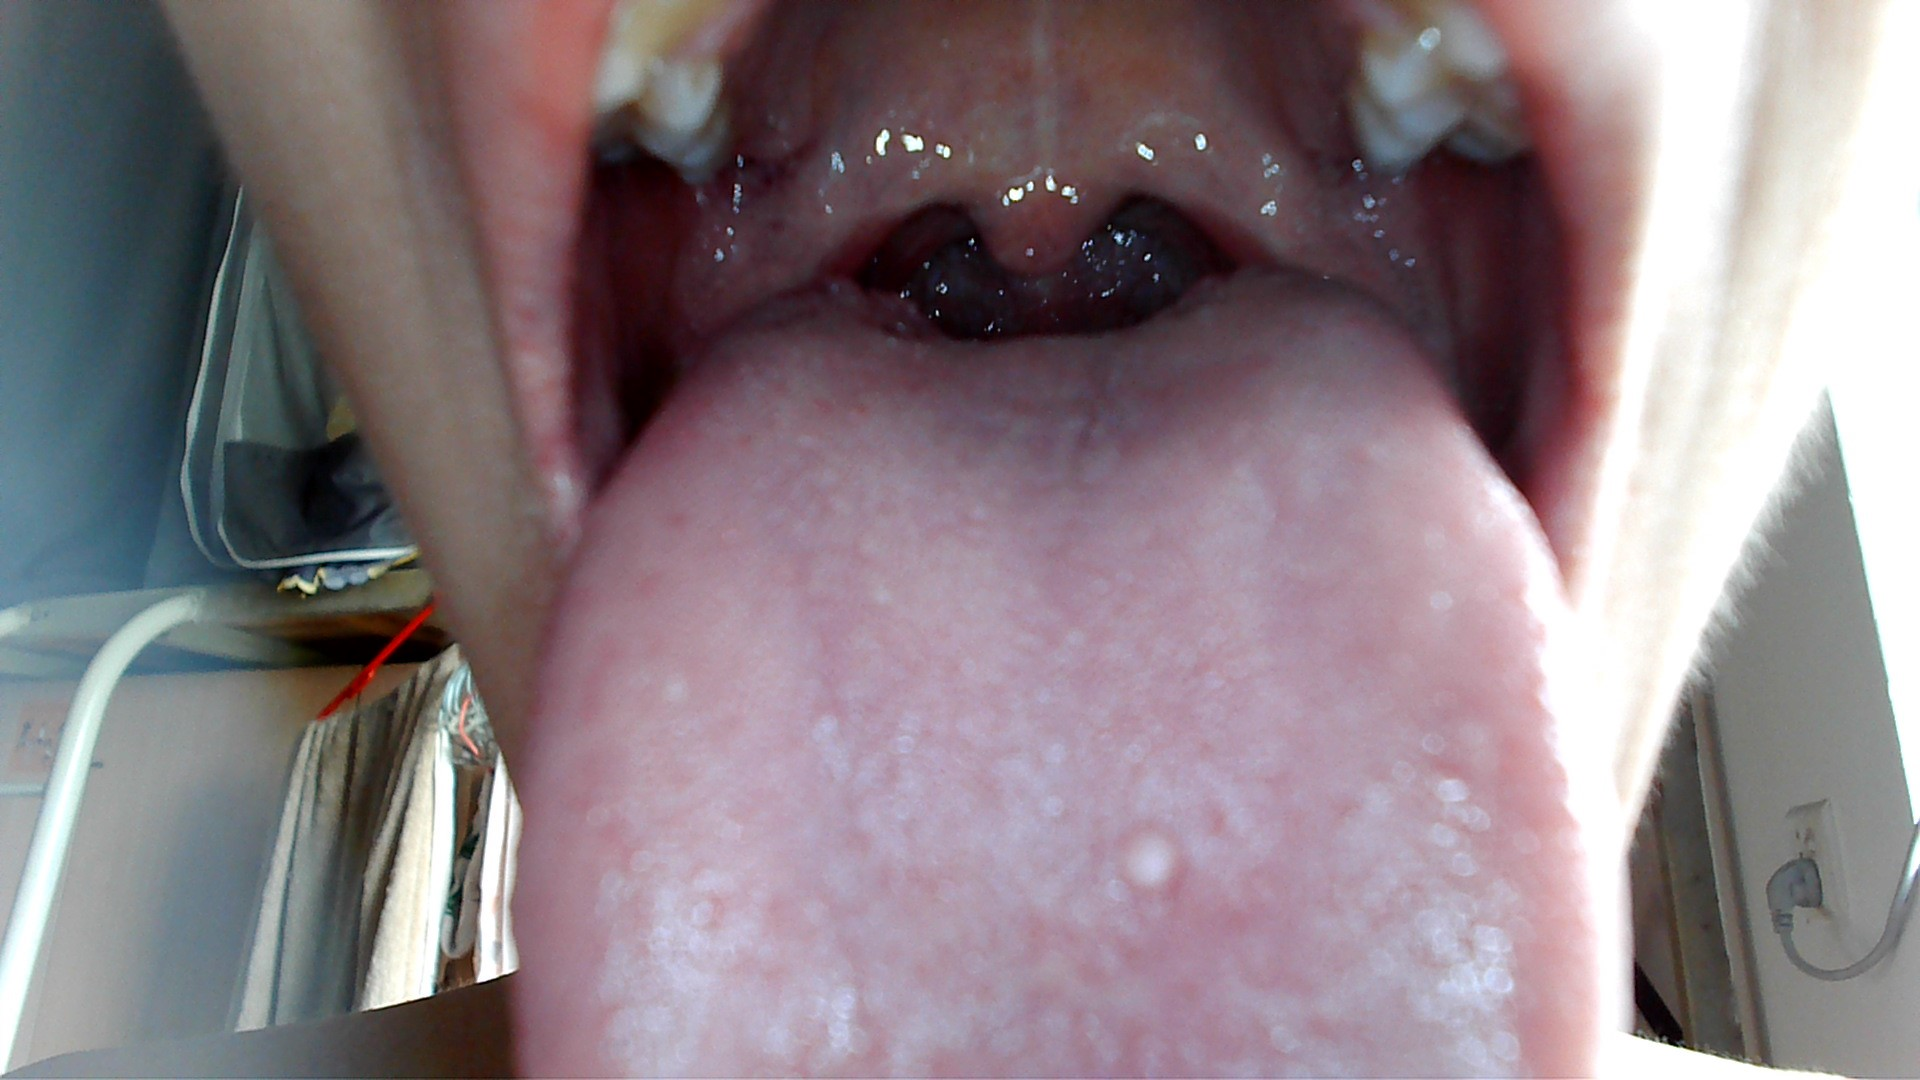throat: (1158, 164, 1342, 264), (762, 185, 918, 276)
